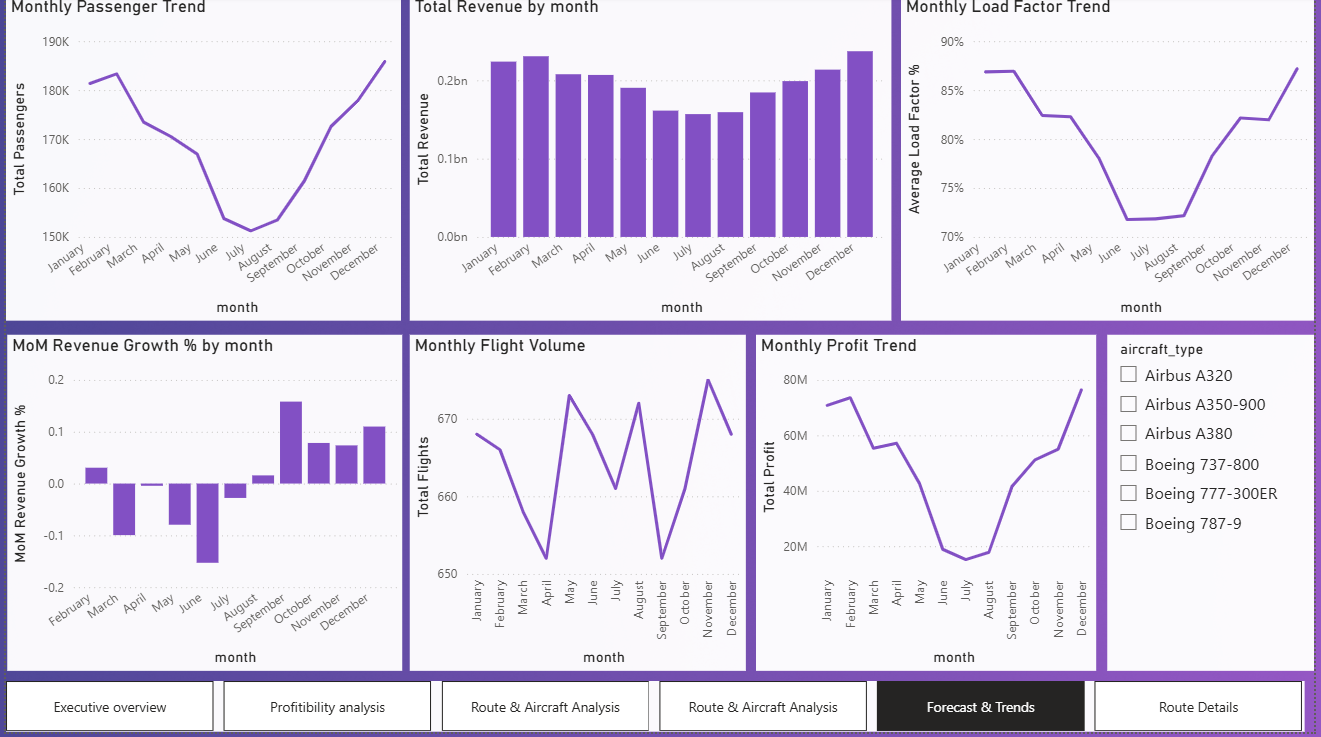

Layout of this report page (visuals, bound fields, positions):
{"tool":"powerbi","page":{"name":"Forecast & Trends","canvas":[1280,720],"ordinal":4},"visuals":[{"type":"lineChart","title":"Monthly Profit Trend","fields":{"Category":["Airline Data.month"],"Y":["Airline Data.Total Profit"]},"box":[733.8,331.2,332.5,328.8],"z":1000},{"type":"columnChart","fields":{"Category":["Airline Data.month"],"Y":["Airline Data.Total Revenue"]},"box":[395,0,471.2,317.5],"z":2000},{"type":"columnChart","fields":{"Category":["Airline Data.month"],"Y":["Airline Data.MoM Revenue Growth %"]},"box":[1.2,331.2,386.2,328.8],"z":3000},{"type":"lineChart","title":"Monthly Passenger Trend","fields":{"Category":["Airline Data.month"],"Y":["Airline Data.Total Passengers"]},"box":[0,0,386.2,317.5],"z":4000},{"type":"lineChart","title":"Monthly Load Factor Trend","fields":{"Category":["Airline Data.month"],"Y":["Airline Data.Average Load Factor %"]},"box":[875,0,403.8,317.5],"z":5000},{"type":"lineChart","title":"Monthly Flight Volume","fields":{"Category":["Airline Data.month"],"Y":["Airline Data.Total Flights"]},"box":[395,331.2,328.8,328.8],"z":6000},{"type":"pageNavigator","box":[0,670.6,1270.7,49.4],"z":7000},{"type":"slicer","fields":{"Values":["Airline Data.aircraft_type"]},"box":[1077.5,331.2,202.5,328.8],"z":8000}]}

Visuals, with their boxes in screenshot pixels (x1, y1, x2, y2), scaled from the page's 1280x720 canvas onto the 1321x737 screenshot:
"Monthly Profit Trend" lineChart: [757,339,1100,676]
columnChart - Airline Data.month x Airline Data.Total Revenue: [408,0,894,325]
columnChart - Airline Data.month x Airline Data.MoM Revenue Growth %: [1,339,400,676]
"Monthly Passenger Trend" lineChart: [0,0,399,325]
"Monthly Load Factor Trend" lineChart: [903,0,1320,325]
"Monthly Flight Volume" lineChart: [408,339,747,676]
pageNavigator: [0,686,1311,736]
slicer - Airline Data.aircraft_type: [1112,339,1320,676]
